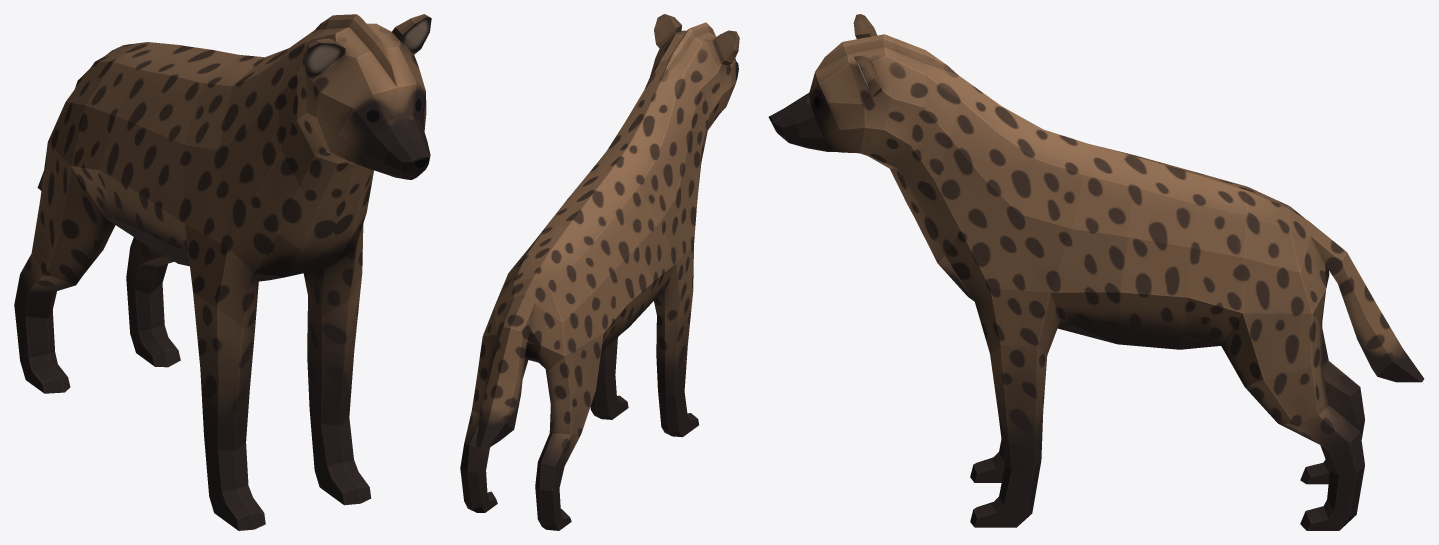
File: SpottedHyena.obj
3 views of the same model, side by side, from view 1: azimuth 30°, elevation 25°; view 2: azimuth 150°, elevation 25°; view 3: azimuth 270°, elevation 25° (orthographic). The views are drawn at different scales.
Visible parts, largest first — view 1: SpottedHyena_mesh; view 2: SpottedHyena_mesh; view 3: SpottedHyena_mesh.
Boxes of the visible parts, x1,y1,x2,y2 form: SpottedHyena_mesh: [14, 14, 431, 530]; SpottedHyena_mesh: [460, 14, 739, 530]; SpottedHyena_mesh: [768, 14, 1424, 530].
Size of the model in its own units: 1.09 by 3.43 by 4.36.
Materials: 1 (1 with a texture image).
